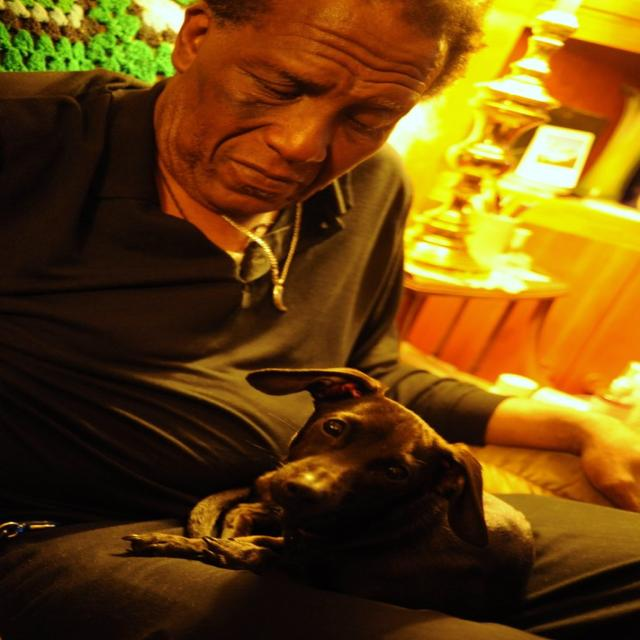Dog: (120, 365, 536, 635)
